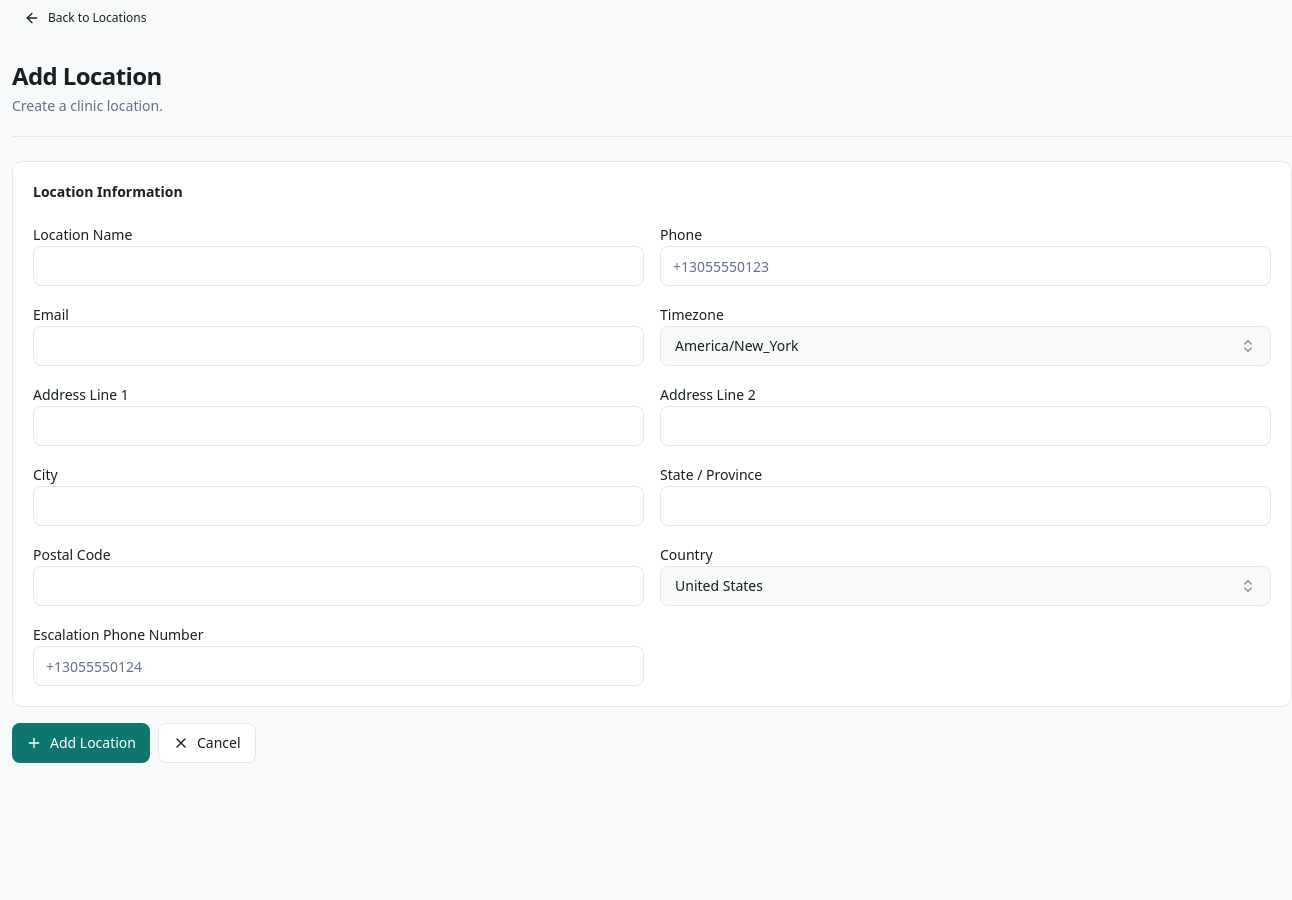
it: Location timezone field › rejects obvious phone gibberish client-side and clears the error on change
This screenshot has width=1292, height=900.
Type "Clifton Branch" into the field labelled "Location Name" at (338, 266), box [33,246,644,286]
Type "asdfasdf" into the field labelled "Phone" at (966, 266), box [660,246,1271,286]
Type "1 Main St" into the field labelled "Address Line 1" at (338, 426), box [33,406,644,446]
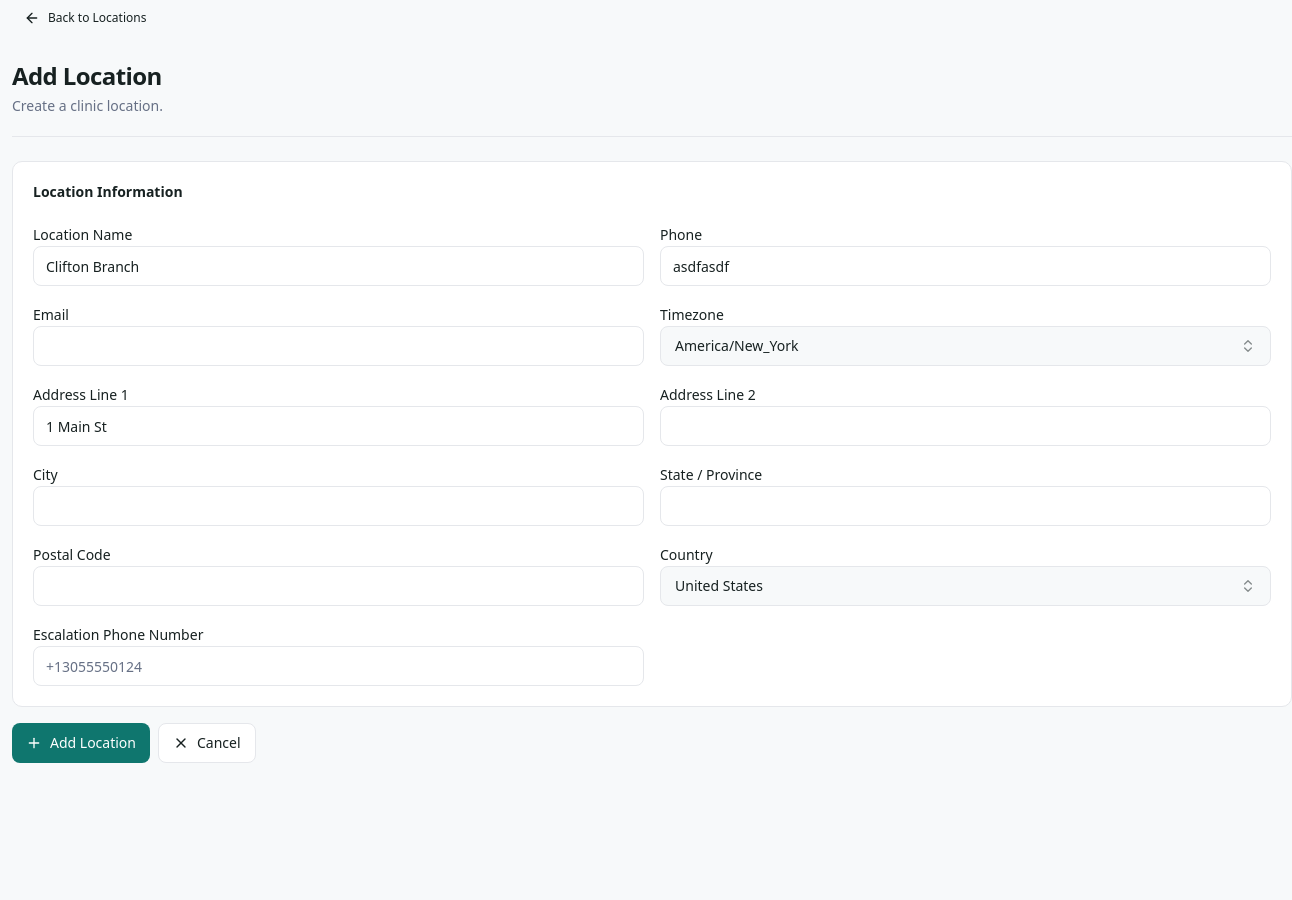
Type "Karachi" into the field labelled "City" at (338, 506), box [33,486,644,526]
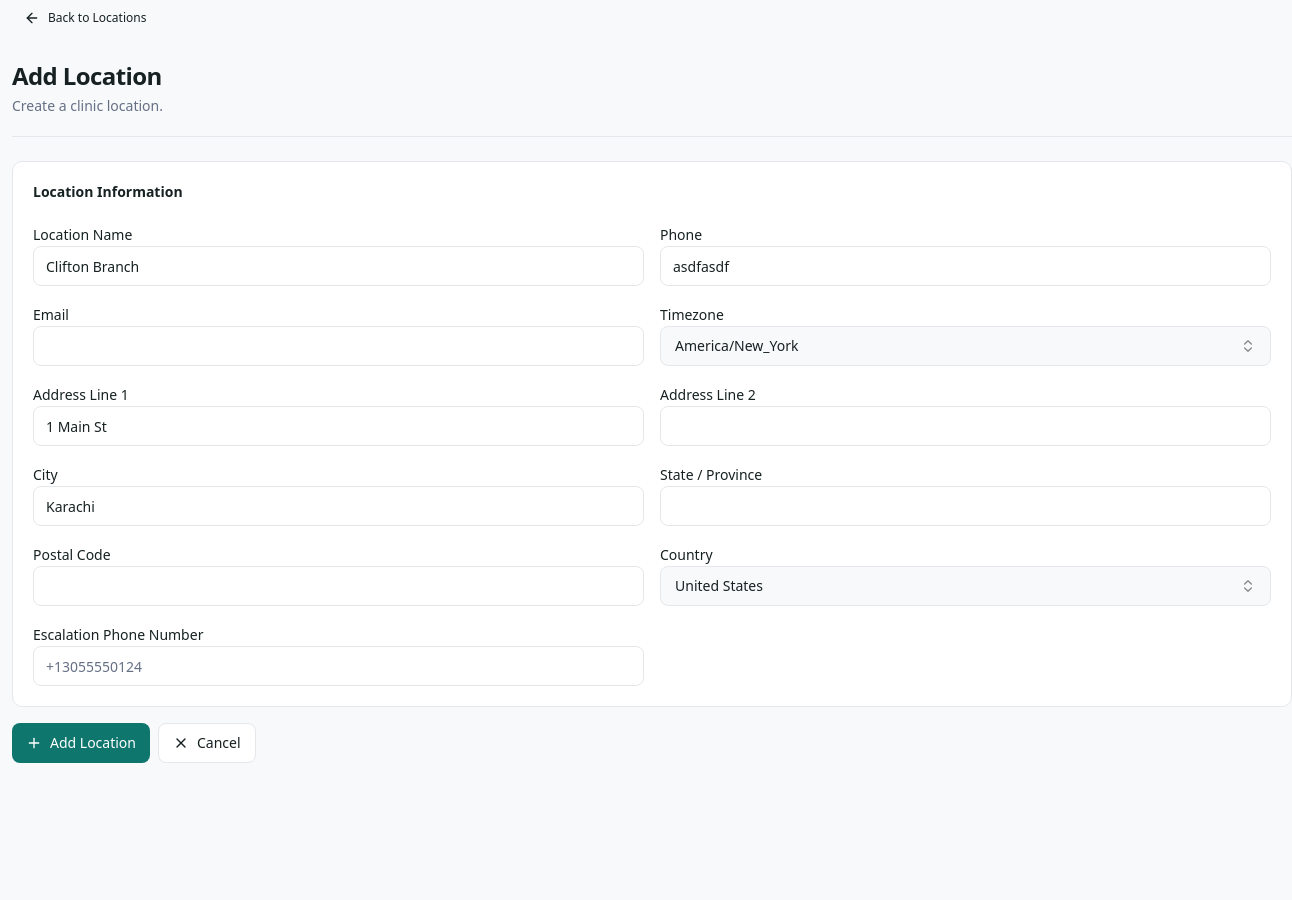
Type "Sindh" into the field labelled "State / Province" at (966, 506), box [660,486,1271,526]
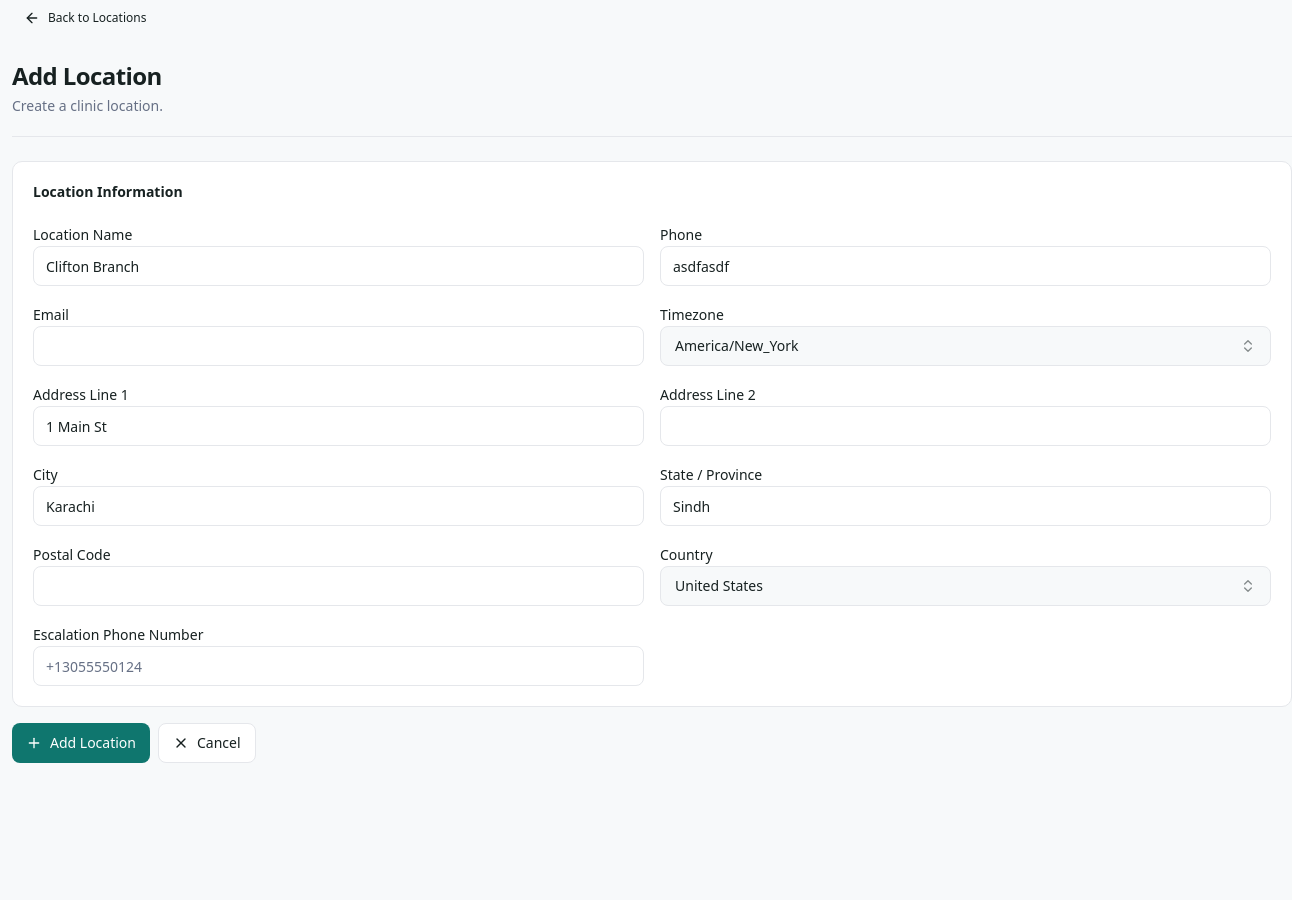
Type "75230" into the field labelled "Postal Code" at (338, 586), box [33,566,644,606]
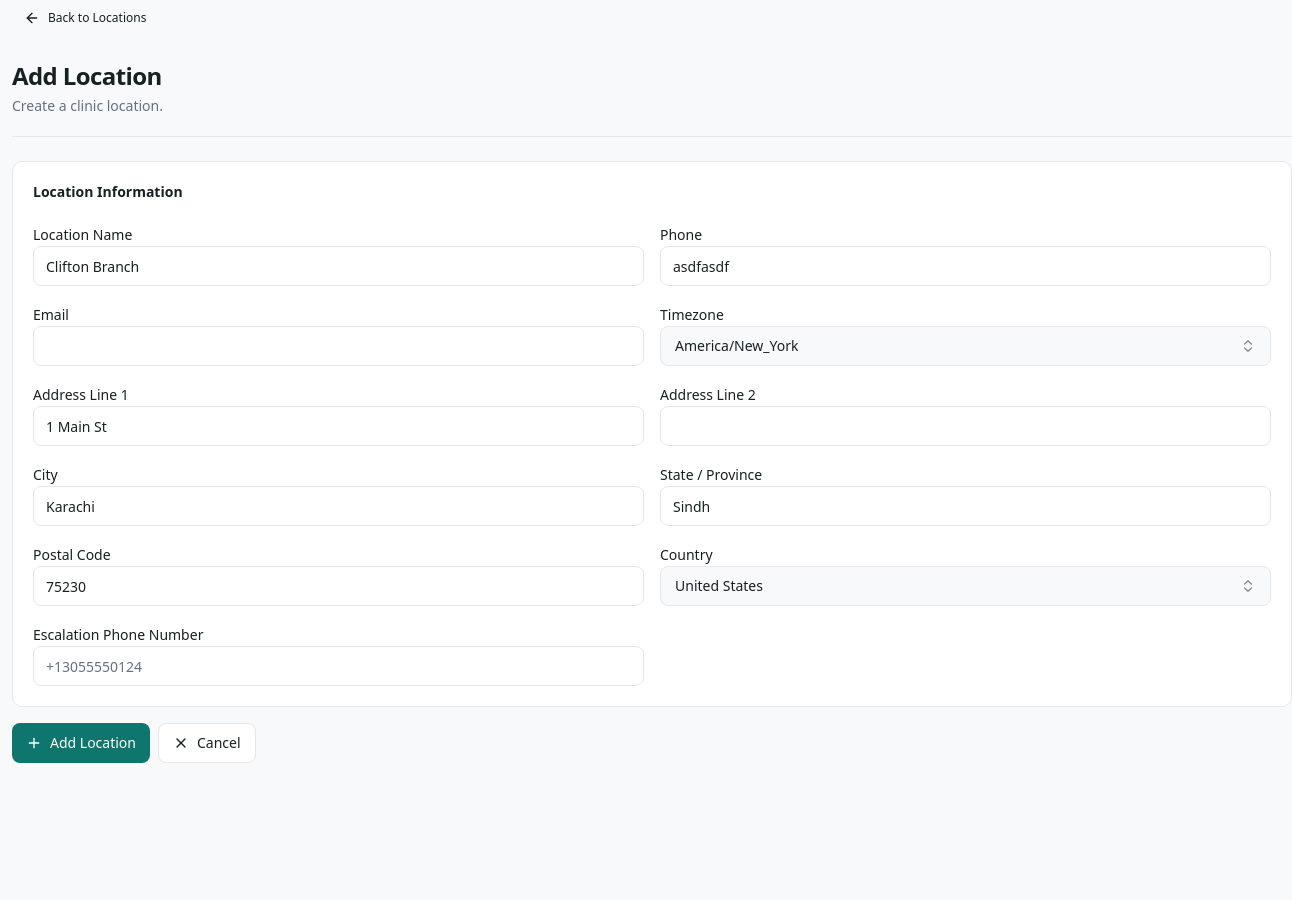
Click the button "Add Location" at (81, 743), box [12,723,150,763]
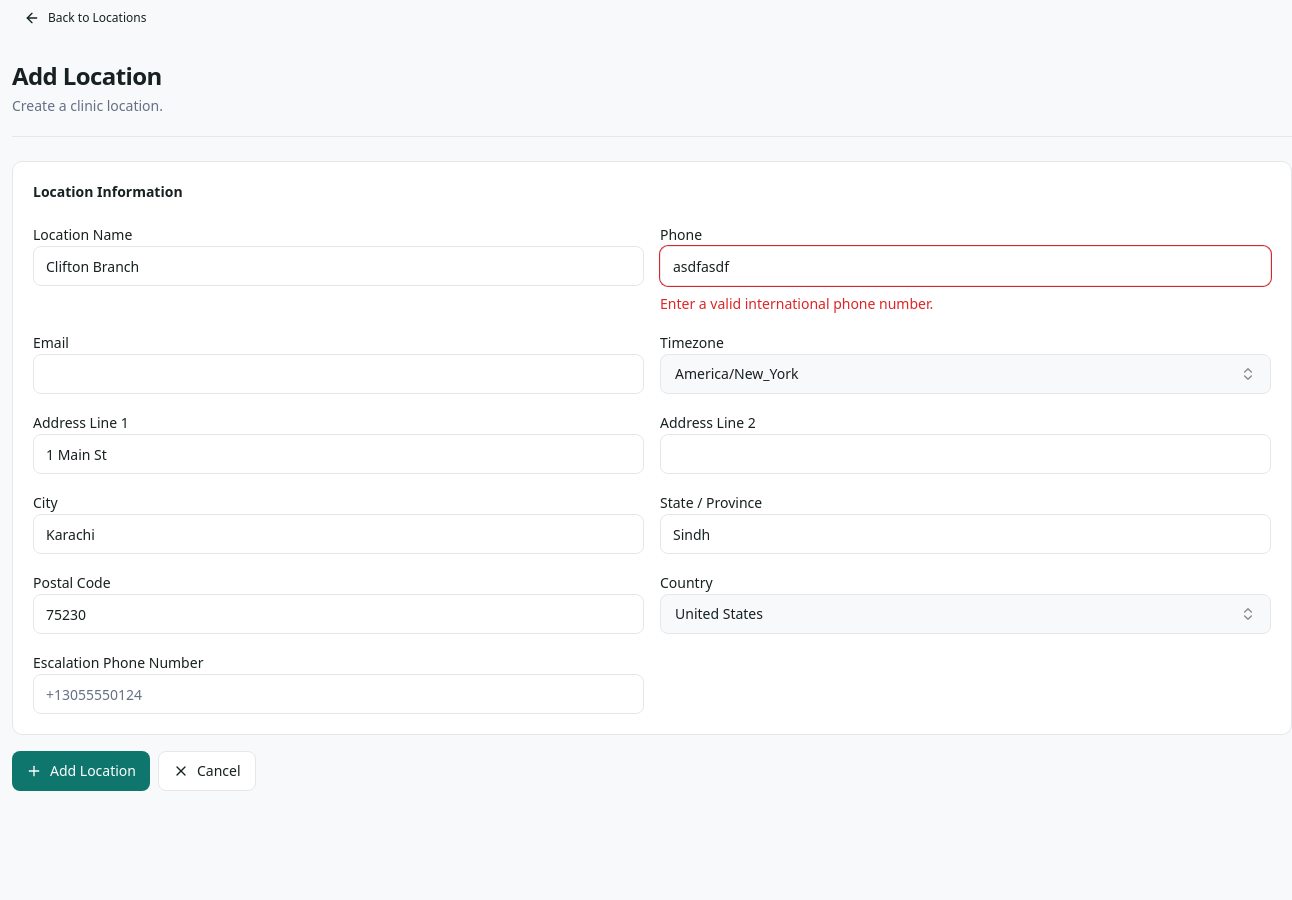
Check: the text "Enter a valid international phone number." is shown, box [660,294,933,313]
Replace the text in the field labelled "Phone" with "+923343683084" at (966, 266), box [660,246,1271,286]
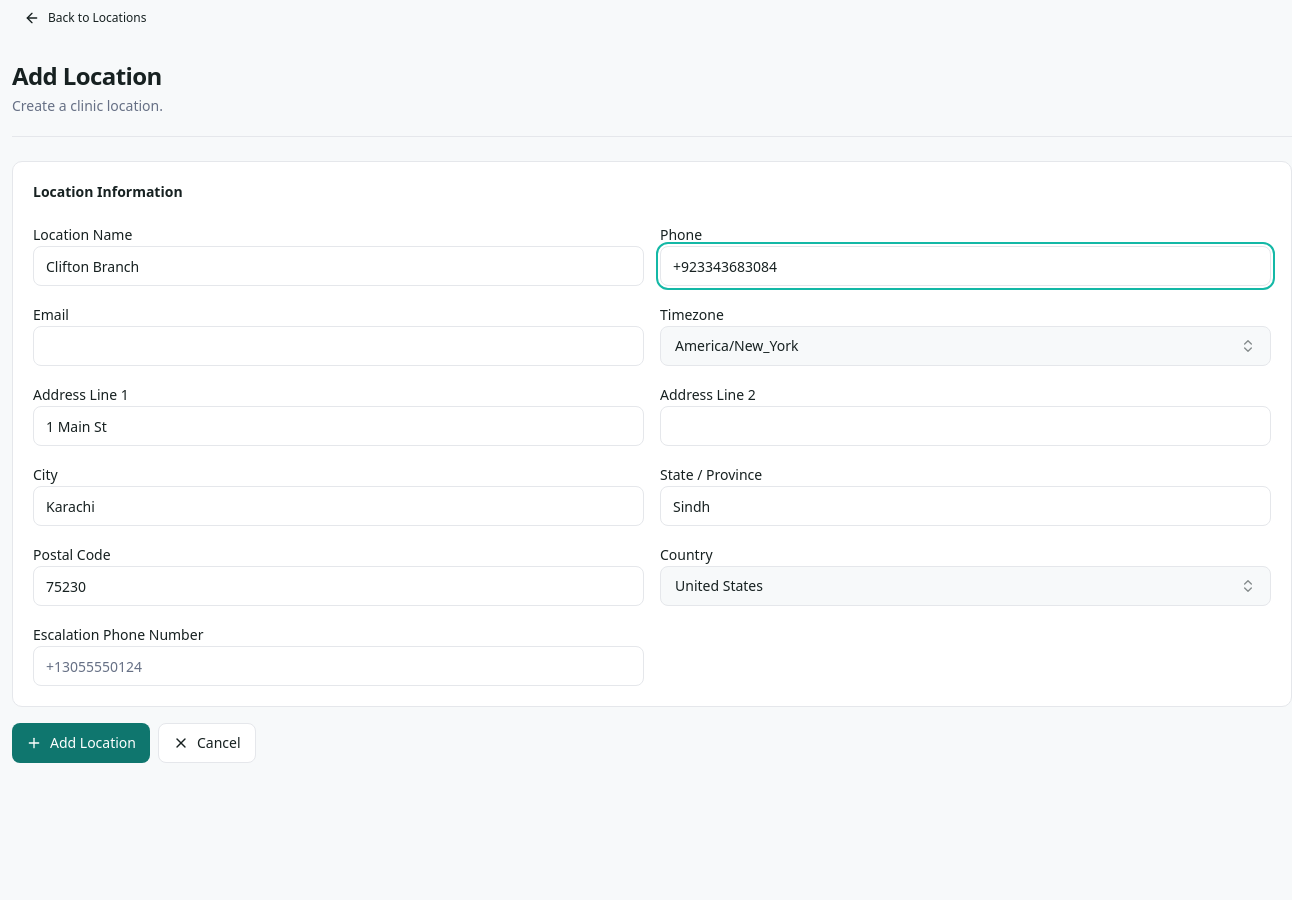
Check: the text "Enter a valid international phone number." is gone
